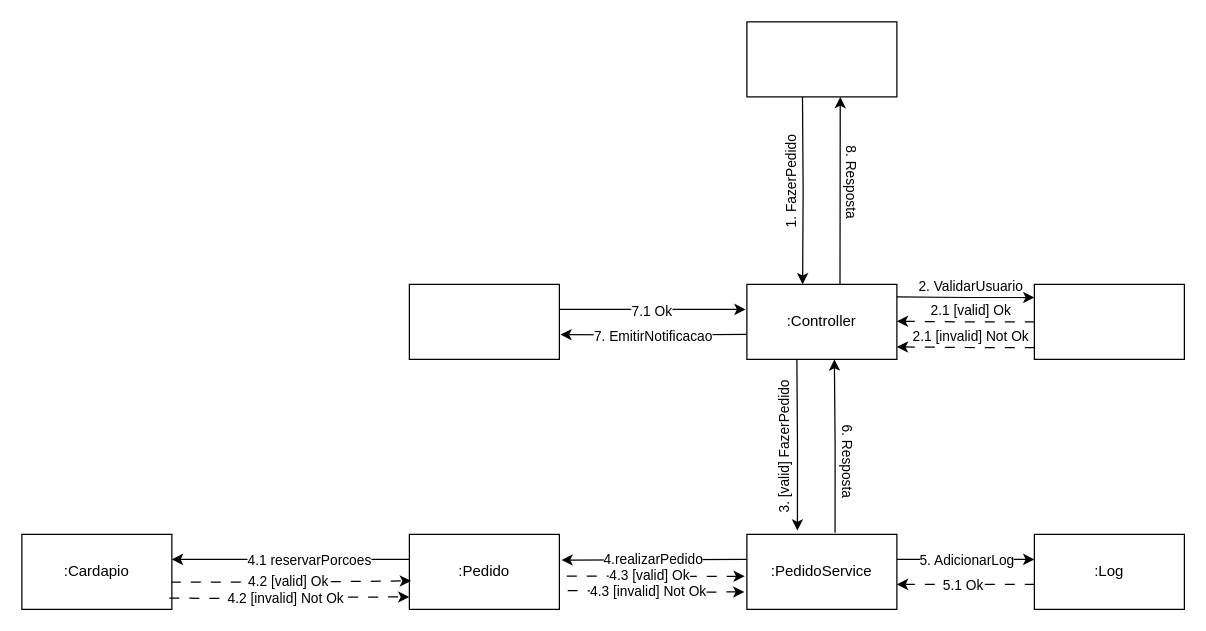
Some shapes in this 1206 by 631 pixel diagram are drawn without their labels. The box of each missing label's shape, as (x1, y1, x2, y2) in pixels:
:Notificador: (408, 283, 559, 359)
:RULogin: (1033, 283, 1184, 359)
:Usuario: (746, 21, 897, 97)
